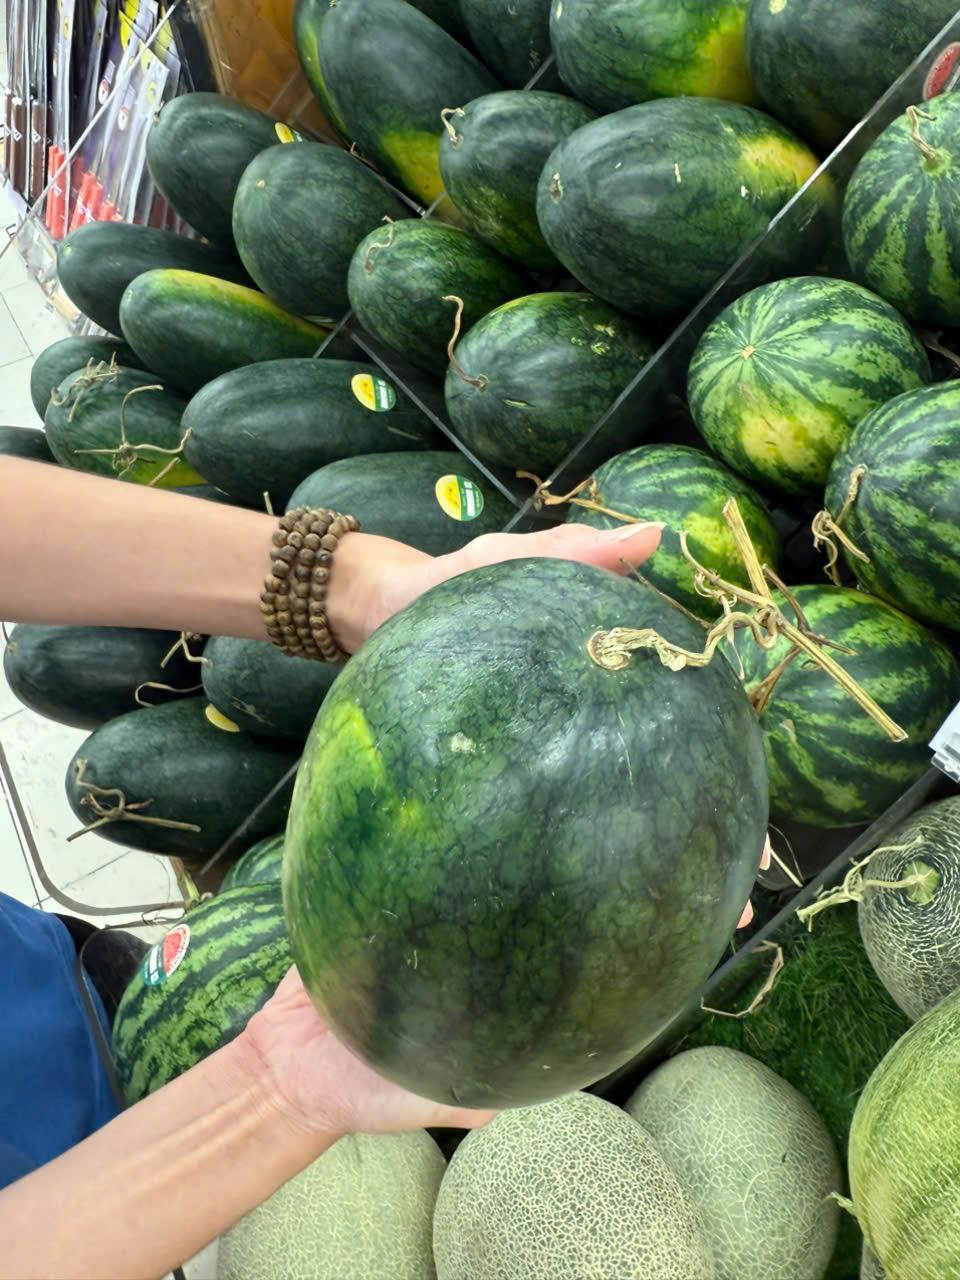watermelon: (270, 553, 772, 1114), (522, 91, 846, 297), (235, 135, 488, 370), (675, 270, 926, 478), (440, 295, 668, 460), (308, 5, 486, 194), (835, 96, 960, 340), (838, 371, 960, 620), (742, 5, 960, 124), (170, 371, 428, 460), (440, 96, 542, 232)
